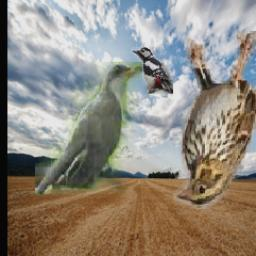Cuckoo: (36, 62, 143, 194)
Sparrow: (174, 32, 256, 210)
Woodpecker: (131, 47, 173, 94)
